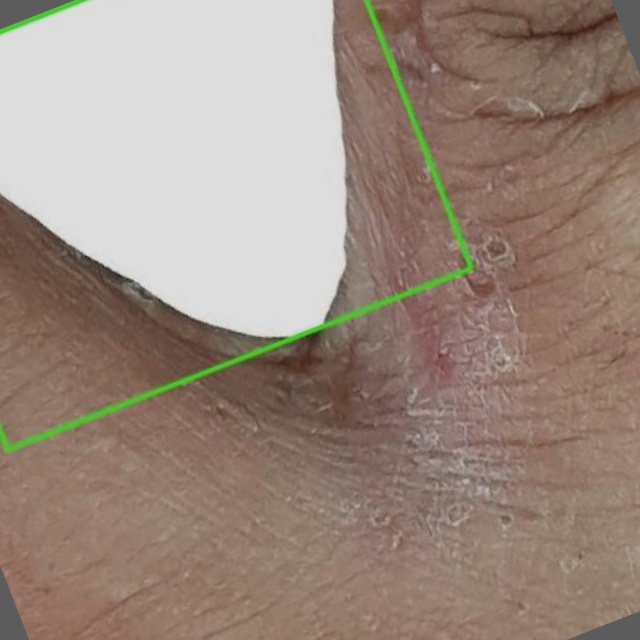Scabies: (0, 0, 472, 449)
